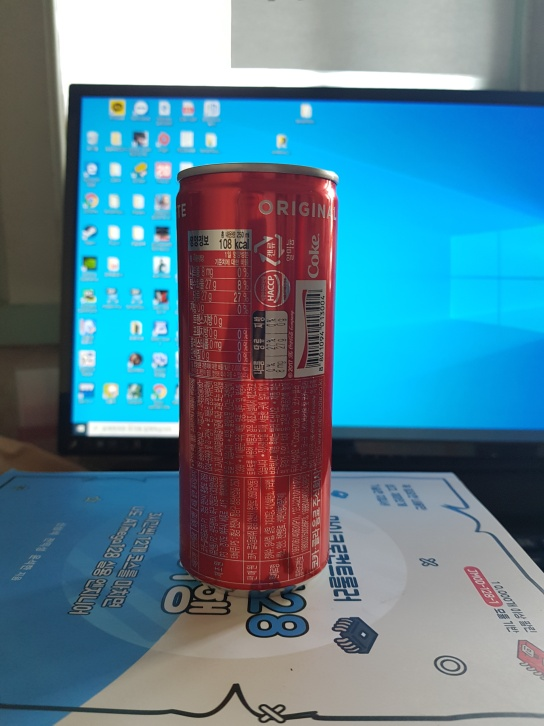Can: (173, 161, 339, 592)
